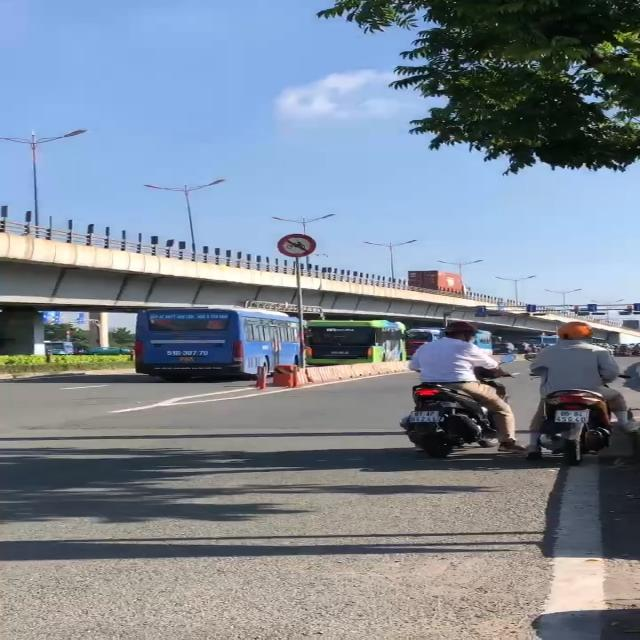Bien bao cam xe may: (275, 232, 321, 258)
